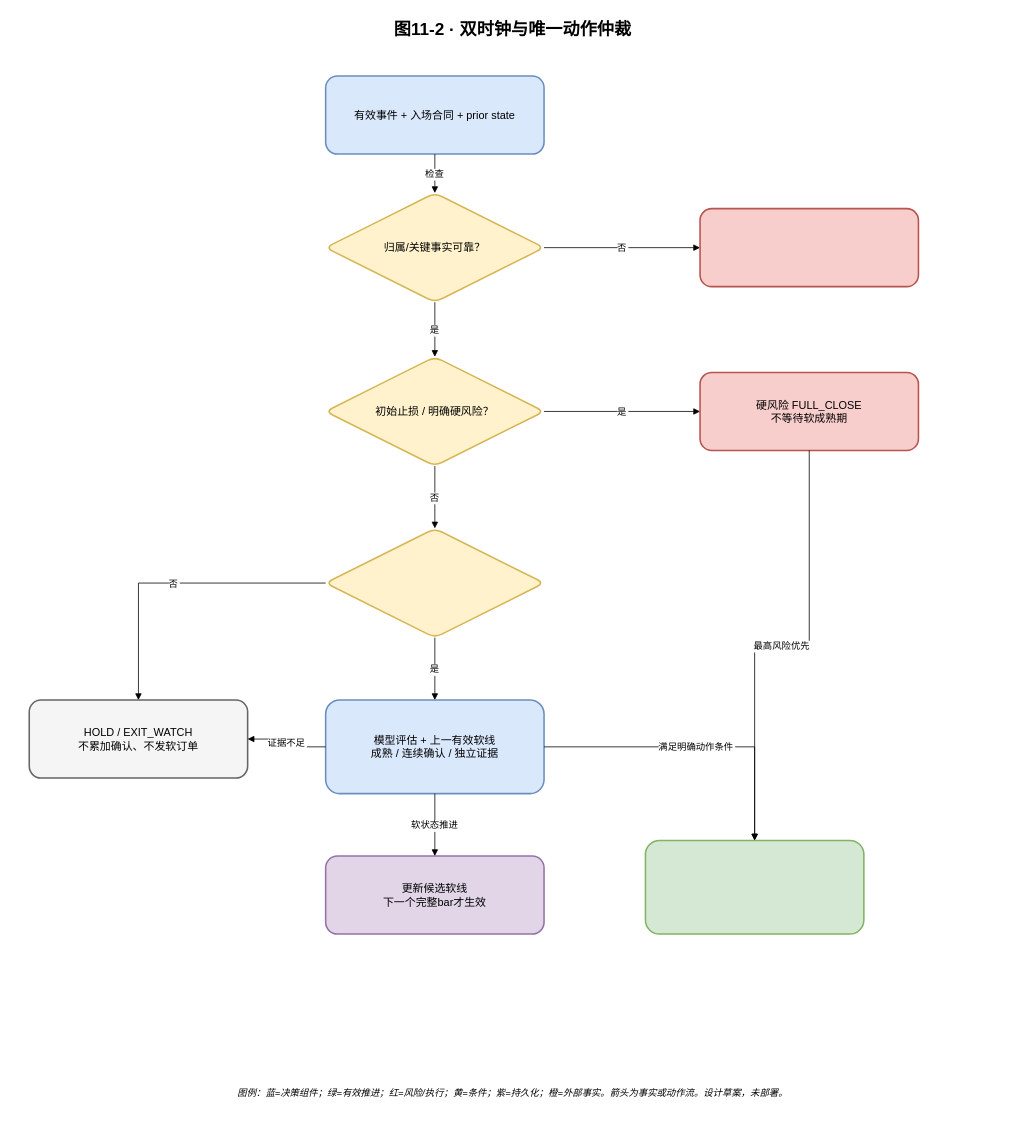
This 1025x1142 diagram has some shape labels left out. The centre of each missing label's shape, as x and y in pixels:
UNKNOWN / 禁新仓 保留有效原生保护并对账: point (809, 247)
按R1–R9唯一仲裁 目标剩余量 / reason / input hash: point (754, 886)
新的入场后完整bar？: point (434, 582)
